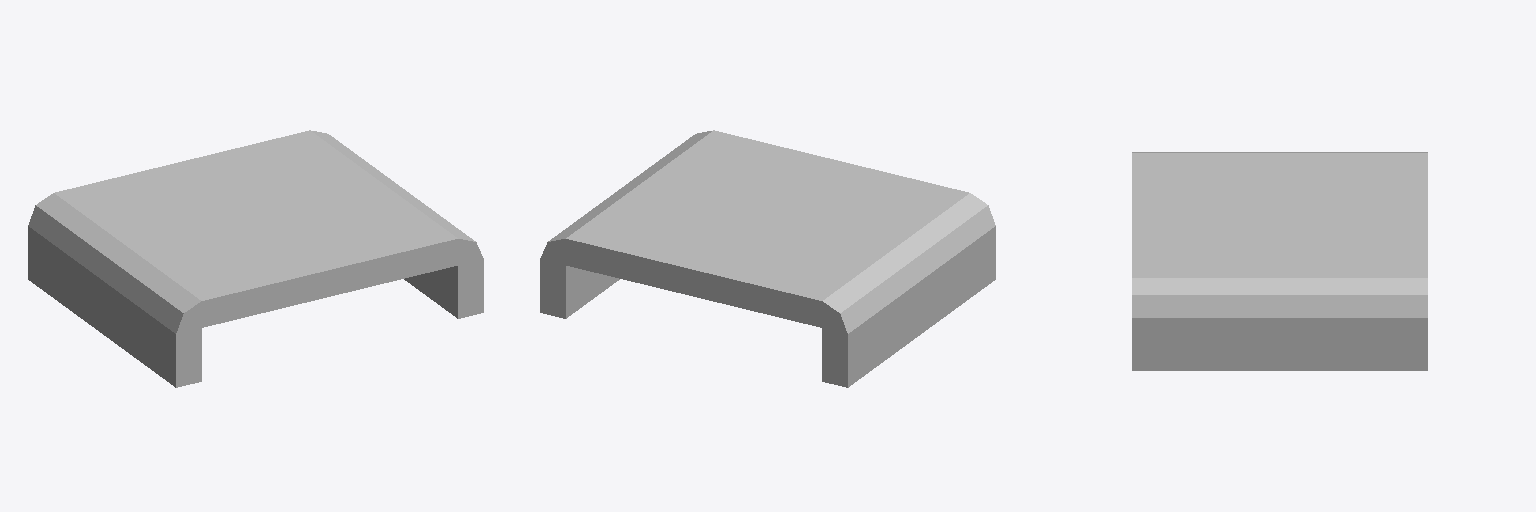
Rendered from bed-single-cover.obj.
The picture shows the model from 3 angles: view 1: azimuth 30°, elevation 25°; view 2: azimuth 150°, elevation 25°; view 3: azimuth 270°, elevation 25°; orthographic projection.
Visible parts, largest first — view 1: bed-single-cover; view 2: bed-single-cover; view 3: bed-single-cover.
Boxes of the visible parts, <box> form: bed-single-cover: <box>28,130,483,387</box>; bed-single-cover: <box>540,130,995,387</box>; bed-single-cover: <box>1132,152,1427,370</box>.
Bounding box in the file's own units: 0.6 × 0.15 × 0.5.